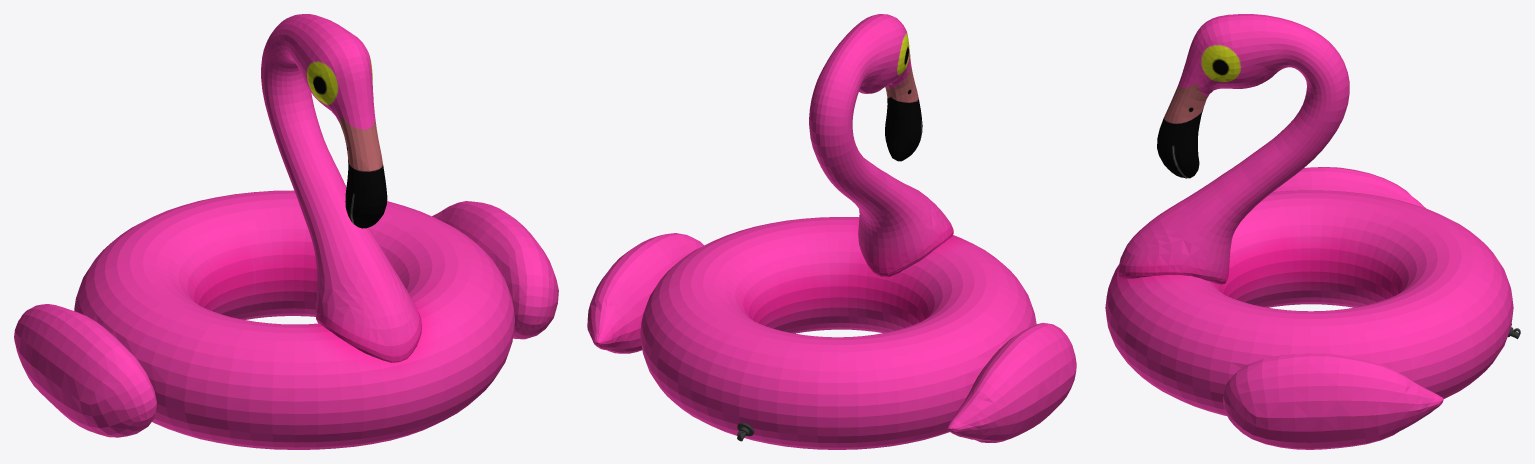
The model's file is boia1.glb.
3 renders of one model, left to right at view 1: azimuth 30°, elevation 25°; view 2: azimuth 150°, elevation 25°; view 3: azimuth 270°, elevation 25°, orthographic. The views are drawn at different scales.
Size of the model in its own units: 0.512 by 0.3807 by 0.4169.
Materials: 1 (1 with a texture image).
